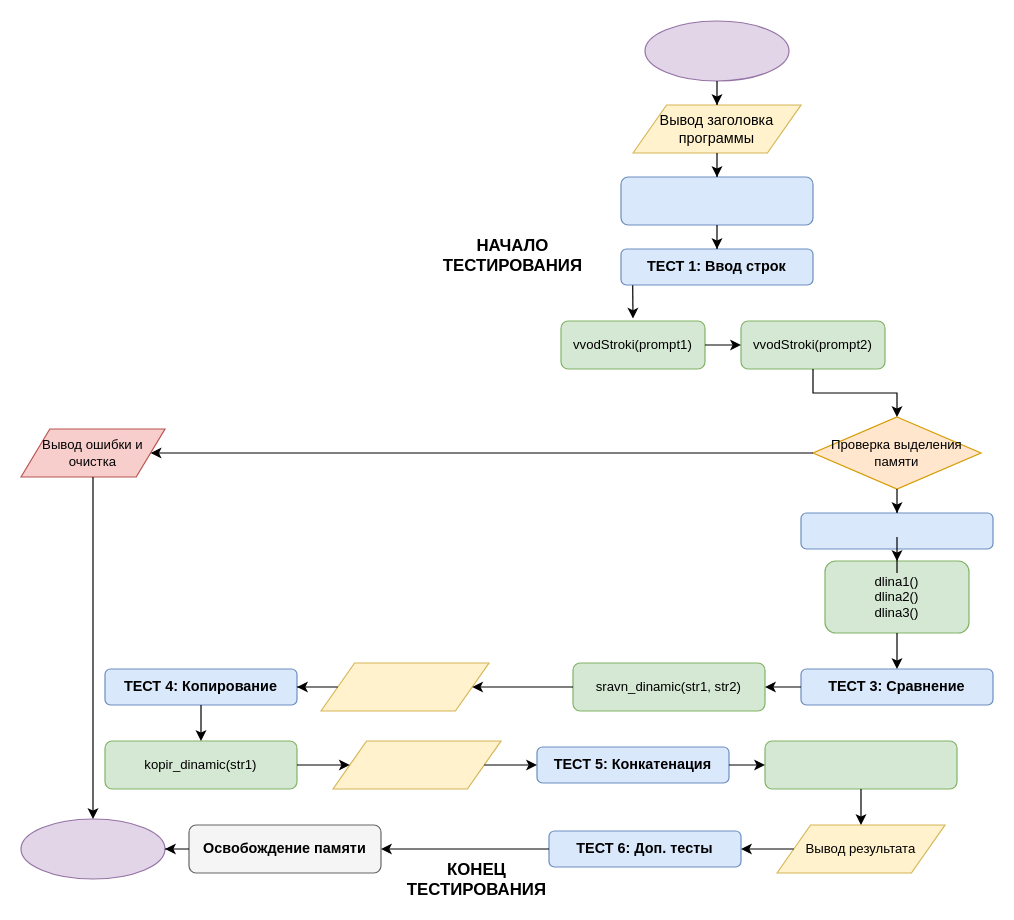
This 1014x920 diagram has some shape labels left out. The box of each missing label's shape, as (x1, y1, x2, y2) in pixels:
konkat_dinamic(str1, str2): (764, 740, 957, 789)
Вывод оригинала и копии: (332, 740, 501, 789)
Вывод результата сравнения: (320, 662, 489, 711)
Вызов test_dinamic_functions(): (620, 176, 813, 225)
КОНЕЦ: (20, 818, 165, 879)
НАЧАЛО: (644, 20, 789, 81)
ТЕСТ 2: Длина строк: (800, 512, 993, 549)
